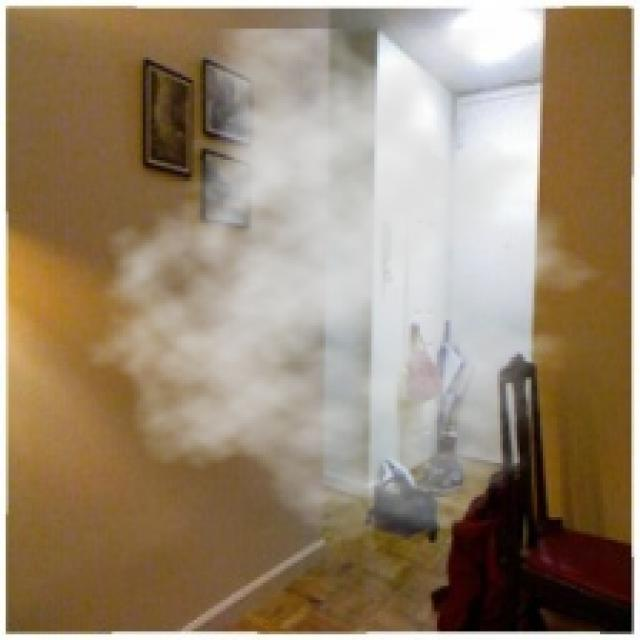Smoke: (83, 28, 626, 543)
